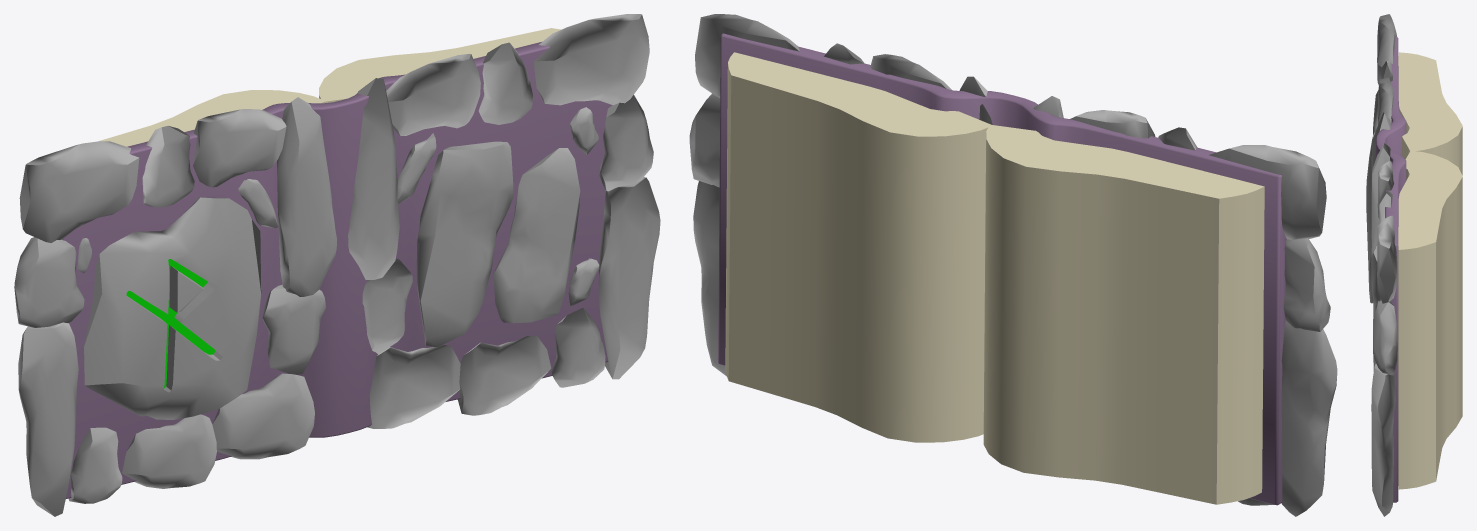
Rendered from Grimoire2.fbx.
The picture shows the model from 3 angles, left to right: view 1: azimuth 30°, elevation 25°; view 2: azimuth 150°, elevation 25°; view 3: azimuth 270°, elevation 25°; orthographic projection. The views are drawn at different scales.
Parts seen in each view (by area): view 1: polySurface53, polySurface52, polySurface36, polySurface55, polySurface54, pCube1; view 2: polySurface54, polySurface55, polySurface53, polySurface52, polySurface36; view 3: polySurface55, polySurface52, polySurface54, polySurface53, polySurface36.
Boxes of the visible parts, x1=… form: polySurface53: x1=14, y1=97, x2=336, y2=516; polySurface52: x1=348, y1=14, x2=660, y2=428; polySurface36: x1=278, y1=83, x2=385, y2=437; polySurface55: x1=319, y1=28, x2=560, y2=102; polySurface54: x1=97, y1=90, x2=324, y2=146; pCube1: x1=126, y1=259, x2=215, y2=388; polySurface54: x1=983, y1=125, x2=1264, y2=504; polySurface55: x1=725, y1=52, x2=991, y2=442; polySurface53: x1=1033, y1=96, x2=1337, y2=516; polySurface52: x1=689, y1=14, x2=992, y2=376; polySurface36: x1=944, y1=90, x2=1053, y2=136; polySurface55: x1=1398, y1=151, x2=1462, y2=489; polySurface52: x1=1371, y1=143, x2=1406, y2=516; polySurface54: x1=1398, y1=52, x2=1462, y2=175; polySurface53: x1=1366, y1=14, x2=1406, y2=303; polySurface36: x1=1376, y1=121, x2=1405, y2=162.
Size of the model in its own units: 41.97 by 22.91 by 7.04.
